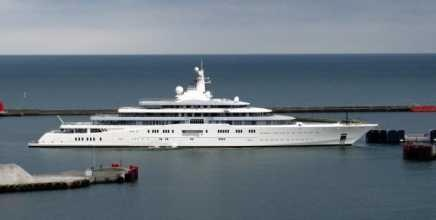yacht: (24, 75, 376, 149)
